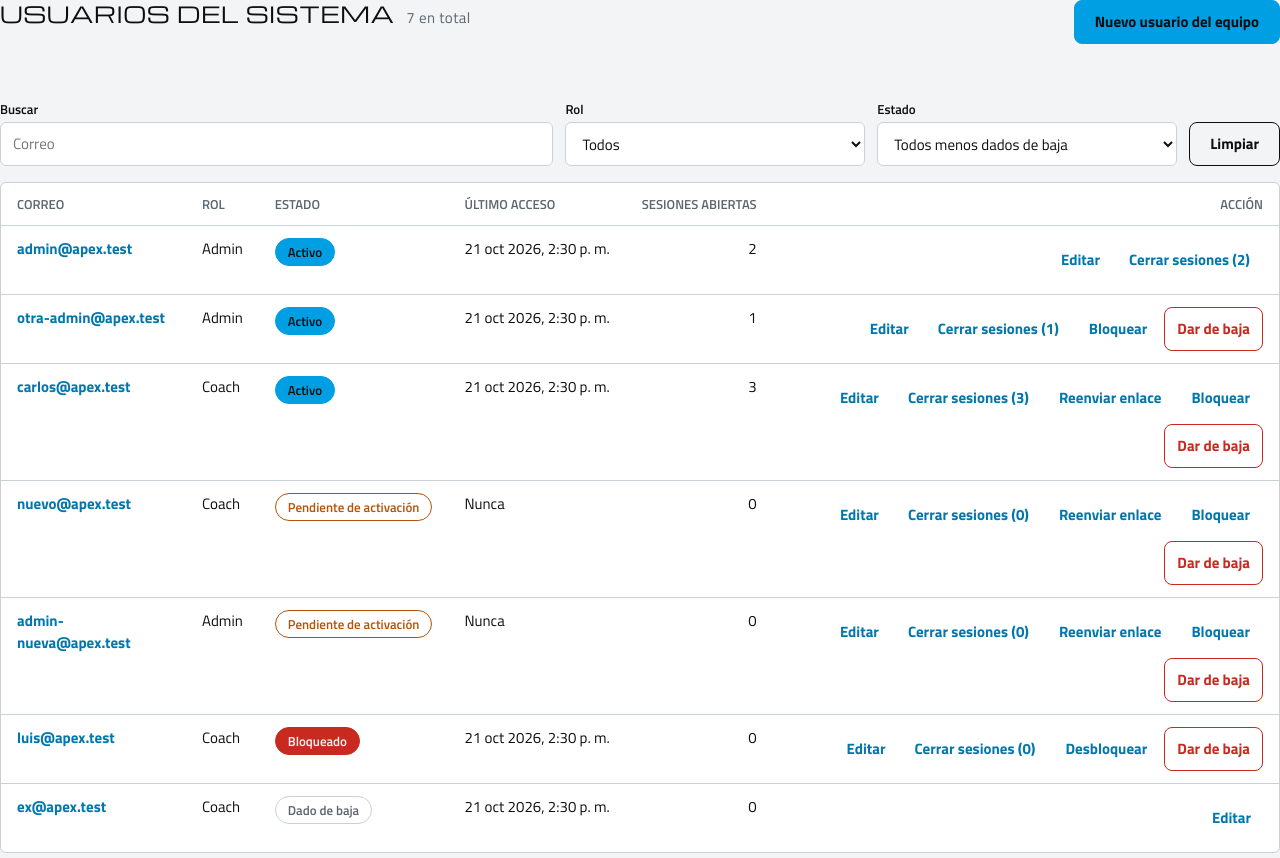
Test: UsersPage · cerrar sesiones (US-051) › confirma y avisa cuántas cerró el api
This screenshot has width=1280, height=858.
Click the button "Cerrar sesiones (3)" at (968, 398), box top-left (895, 376), bottom-right (1042, 420)
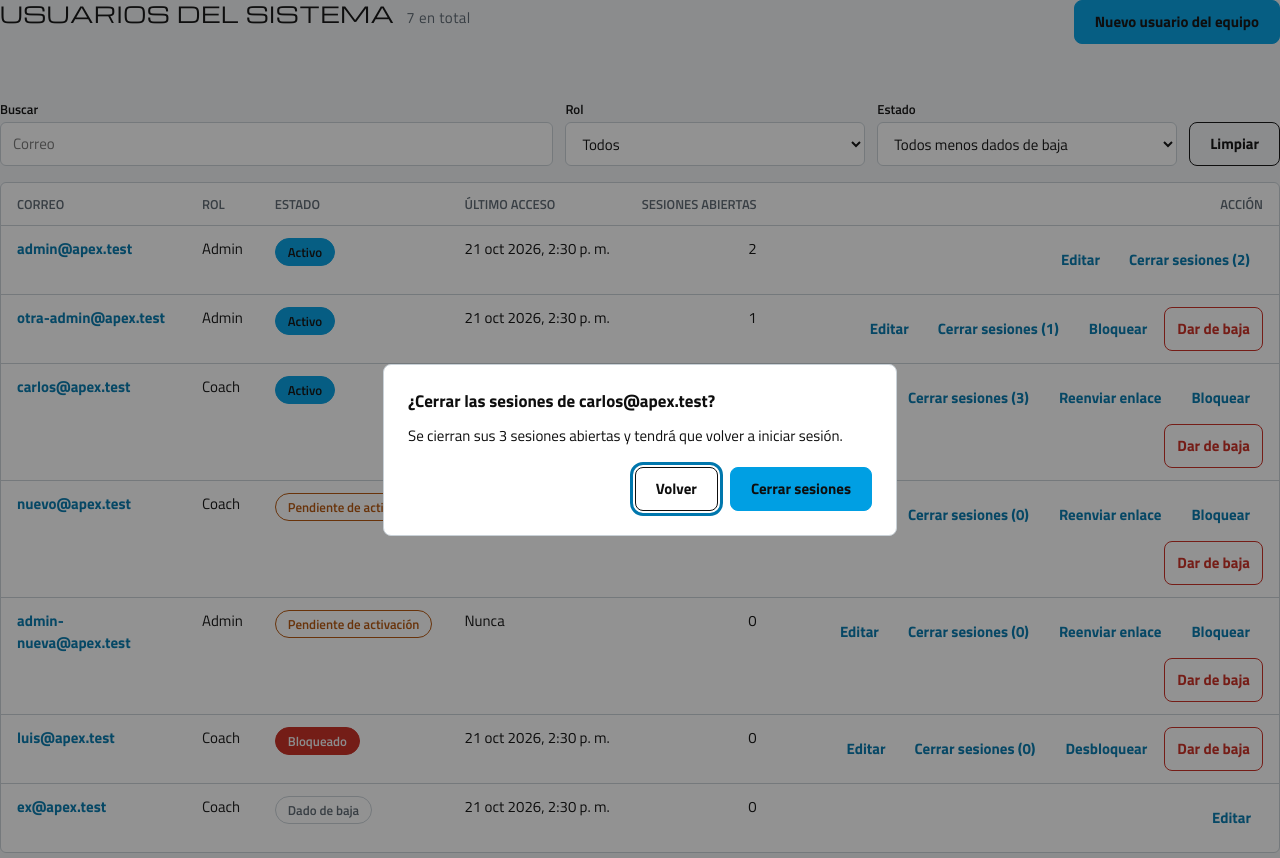
Expected: the dialog shows "Se cierran sus 3 sesiones abiertas y tendrá que volver a iniciar sesión.", top-left (408, 424), bottom-right (843, 447)
Click the button "Cerrar sesiones" at (801, 489), box top-left (730, 467), bottom-right (872, 511)
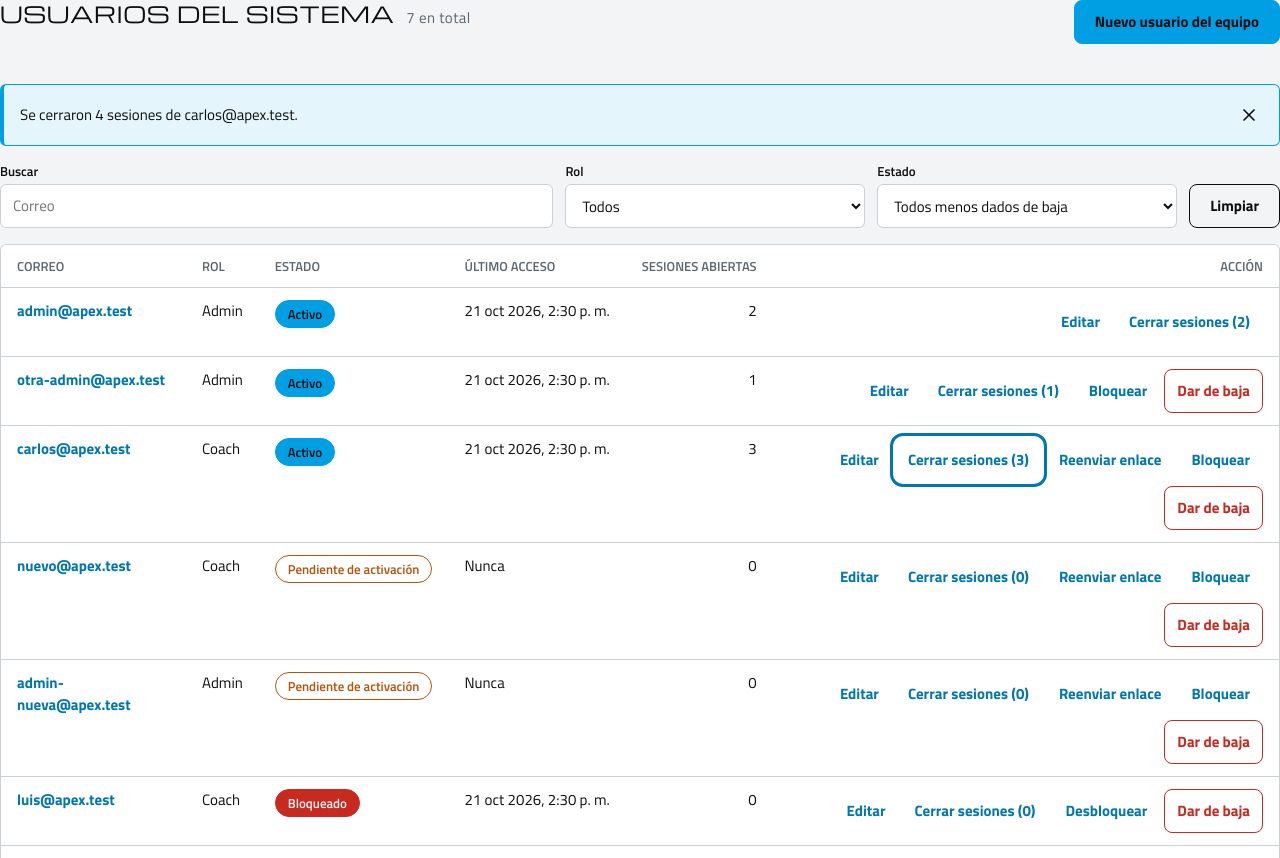
Expected: the dialog is gone
